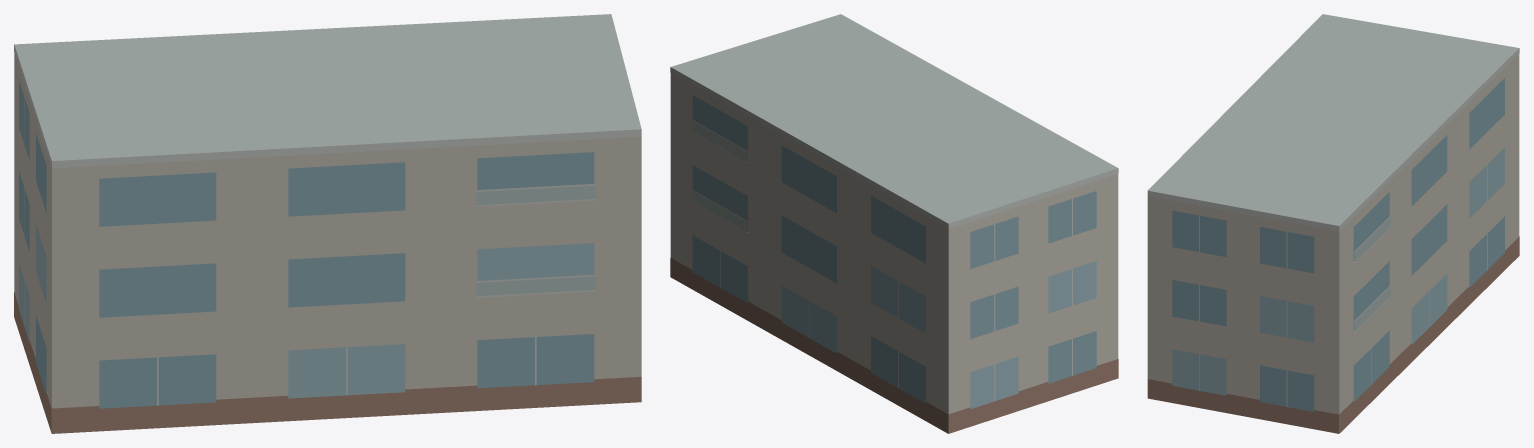
The model's file is survey-upis-32668723.glb.
3 views of the same model, side by side, from view 1: azimuth 30°, elevation 25°; view 2: azimuth 150°, elevation 25°; view 3: azimuth 270°, elevation 25° (orthographic). The views are drawn at different scales.
Visible parts, largest first — view 1: survey-upis-32668723.tmp; view 2: survey-upis-32668723.tmp; view 3: survey-upis-32668723.tmp.
Part boxes in pixels (x1,y1,x2,y2): survey-upis-32668723.tmp: [14, 14, 641, 433]; survey-upis-32668723.tmp: [670, 14, 1118, 433]; survey-upis-32668723.tmp: [1147, 14, 1519, 433].
Size of the model in its own units: 20.04 by 9.15 by 14.84.
